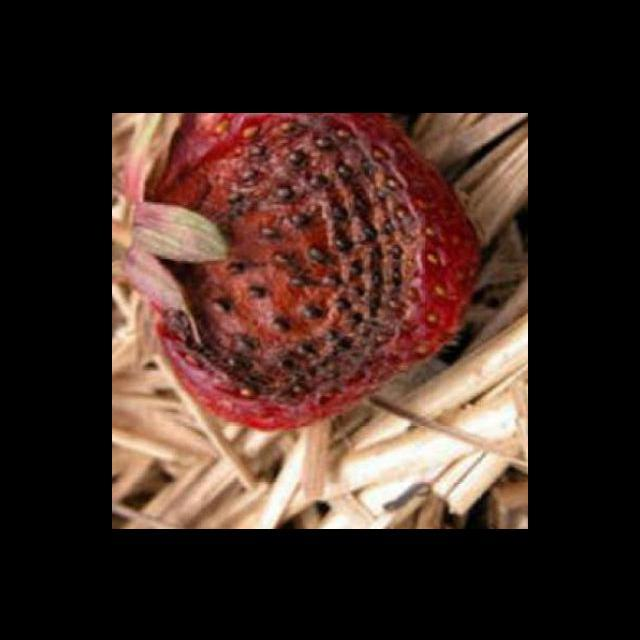Anthracnose Fruit Rot: (155, 112, 424, 413)
